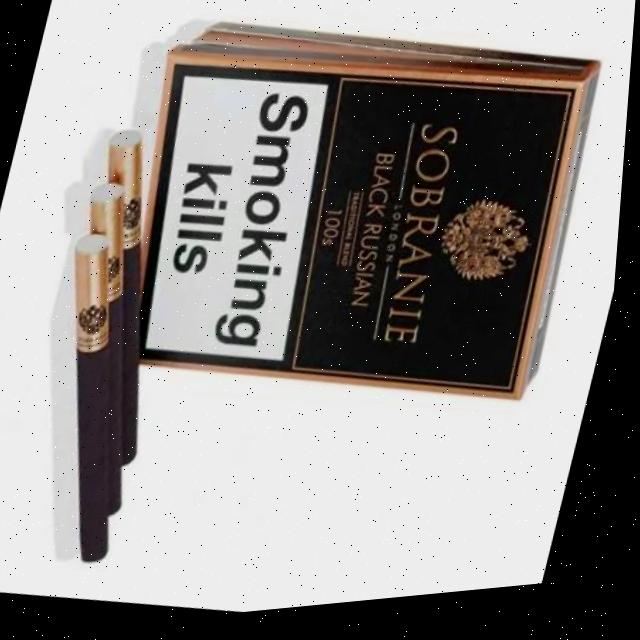cigarette: (73, 234, 107, 562), (107, 130, 139, 466), (89, 183, 121, 514)
